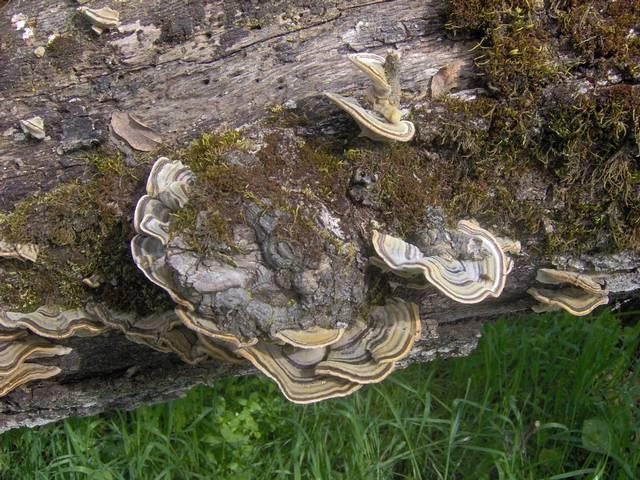poisonous_mushroom: (0, 155, 612, 426), (322, 47, 416, 144)
